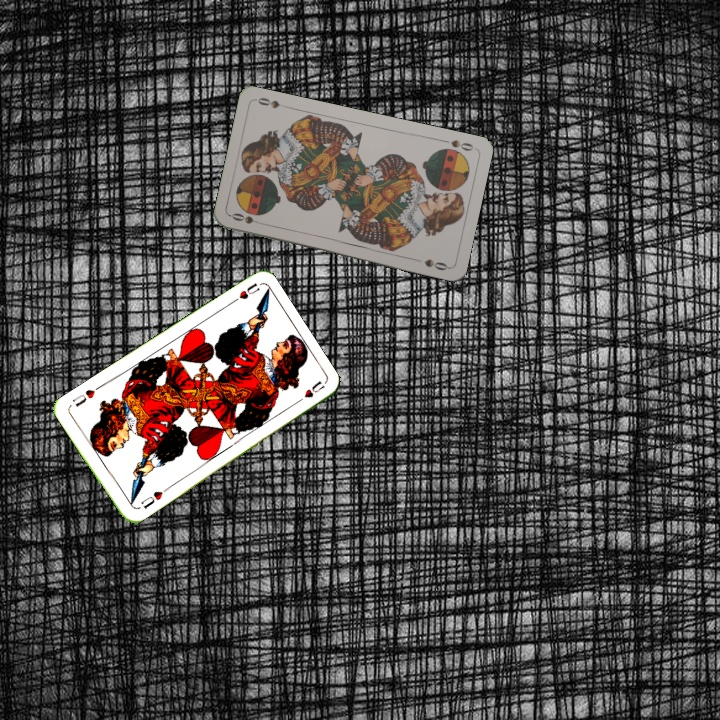HU: (225, 279, 262, 307), (137, 487, 165, 511)
SO: (437, 135, 476, 154), (227, 209, 268, 227)
